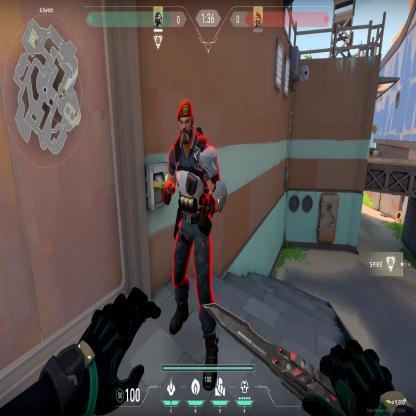enemy: (158, 96, 228, 297)
